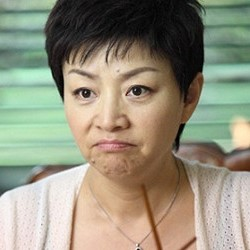unmask: (57, 43, 187, 186)
